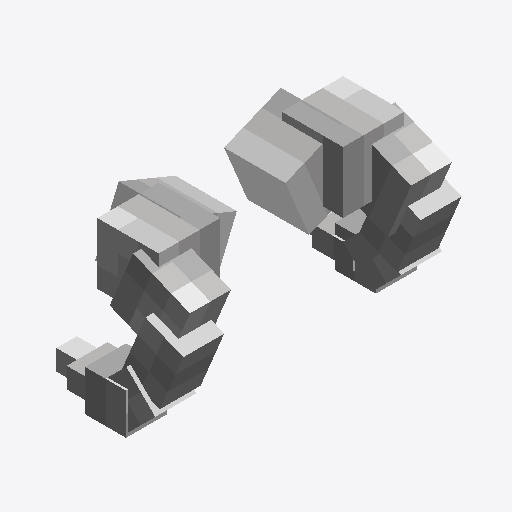
A Minecraft block model of 16 cuboids, rendered isometrically (azimuth 45°, elevation 35.3°) with the resource pack's own textures.
Parts seen in each view (by area): element 1, element 2, element 16, element 10, element 3, element 11, element 4, element 12, element 9, element 5, element 13, element 6 (+3 smaller).
Part boxes in pixels (bbox=[...]): element 1: bbox=[224, 88, 341, 234]; element 2: bbox=[282, 76, 403, 217]; element 16: bbox=[97, 183, 219, 297]; element 10: bbox=[110, 248, 230, 338]; element 3: bbox=[360, 102, 451, 237]; element 11: bbox=[122, 313, 223, 408]; element 4: bbox=[360, 179, 461, 271]; element 12: bbox=[85, 344, 166, 437]; element 9: bbox=[95, 176, 236, 265]; element 5: bbox=[343, 232, 441, 291]; element 13: bbox=[108, 365, 195, 431]; element 6: bbox=[335, 209, 416, 292].
Bounding box in the file's own units: 14.2 × 7.53 × 6.5.